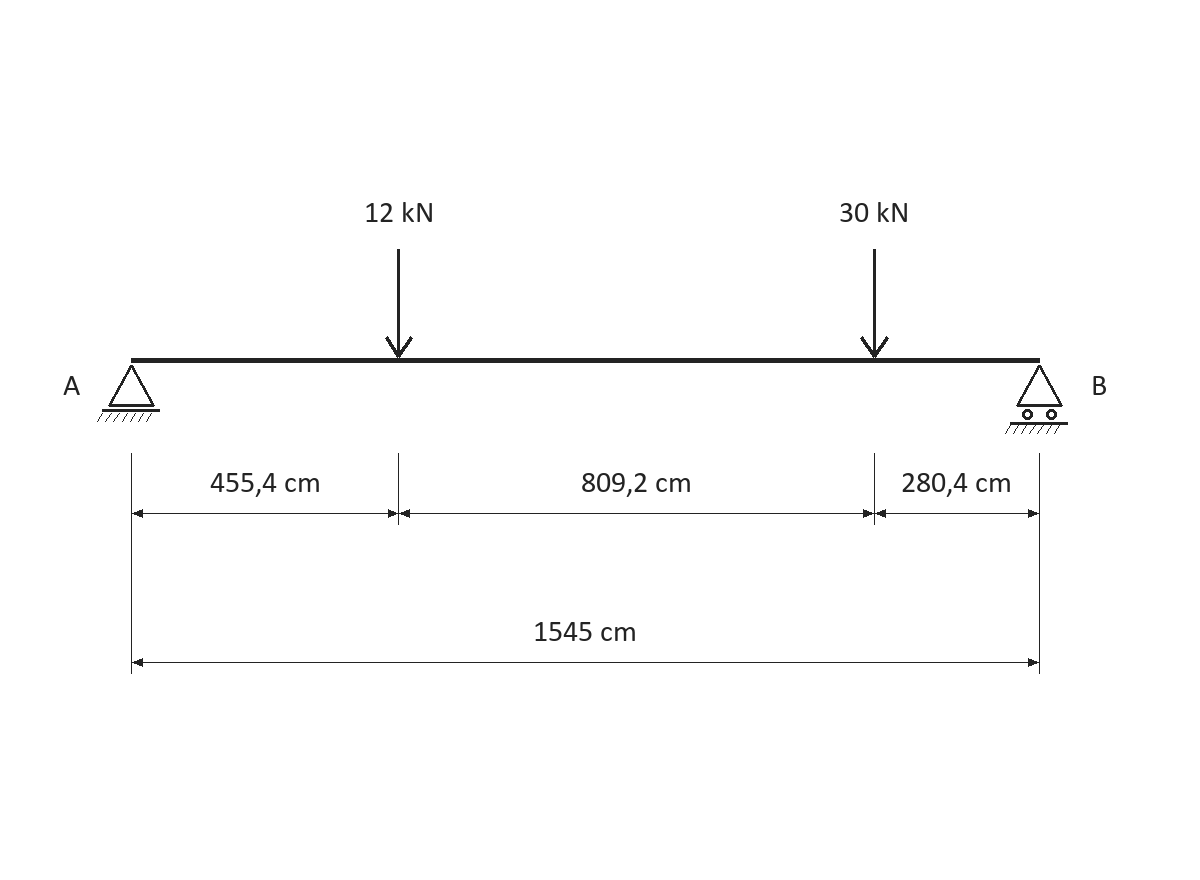pin_support: (97, 365, 160, 422)
point_load: (860, 249, 889, 358), (385, 249, 413, 358)
roller_support: (1005, 365, 1068, 434)
